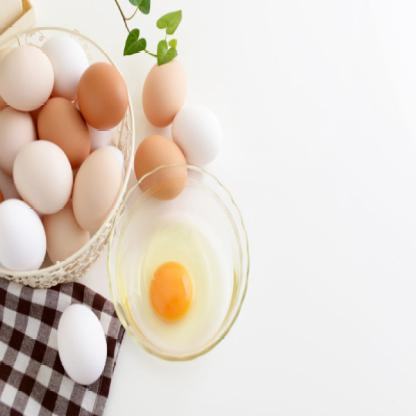egg: (0, 35, 77, 131), (69, 132, 132, 242), (124, 120, 201, 209), (0, 195, 68, 288), (7, 134, 87, 212), (49, 299, 116, 389), (36, 98, 112, 172), (131, 52, 196, 133), (166, 92, 233, 170), (70, 61, 130, 129), (40, 30, 96, 97), (0, 100, 38, 172)
